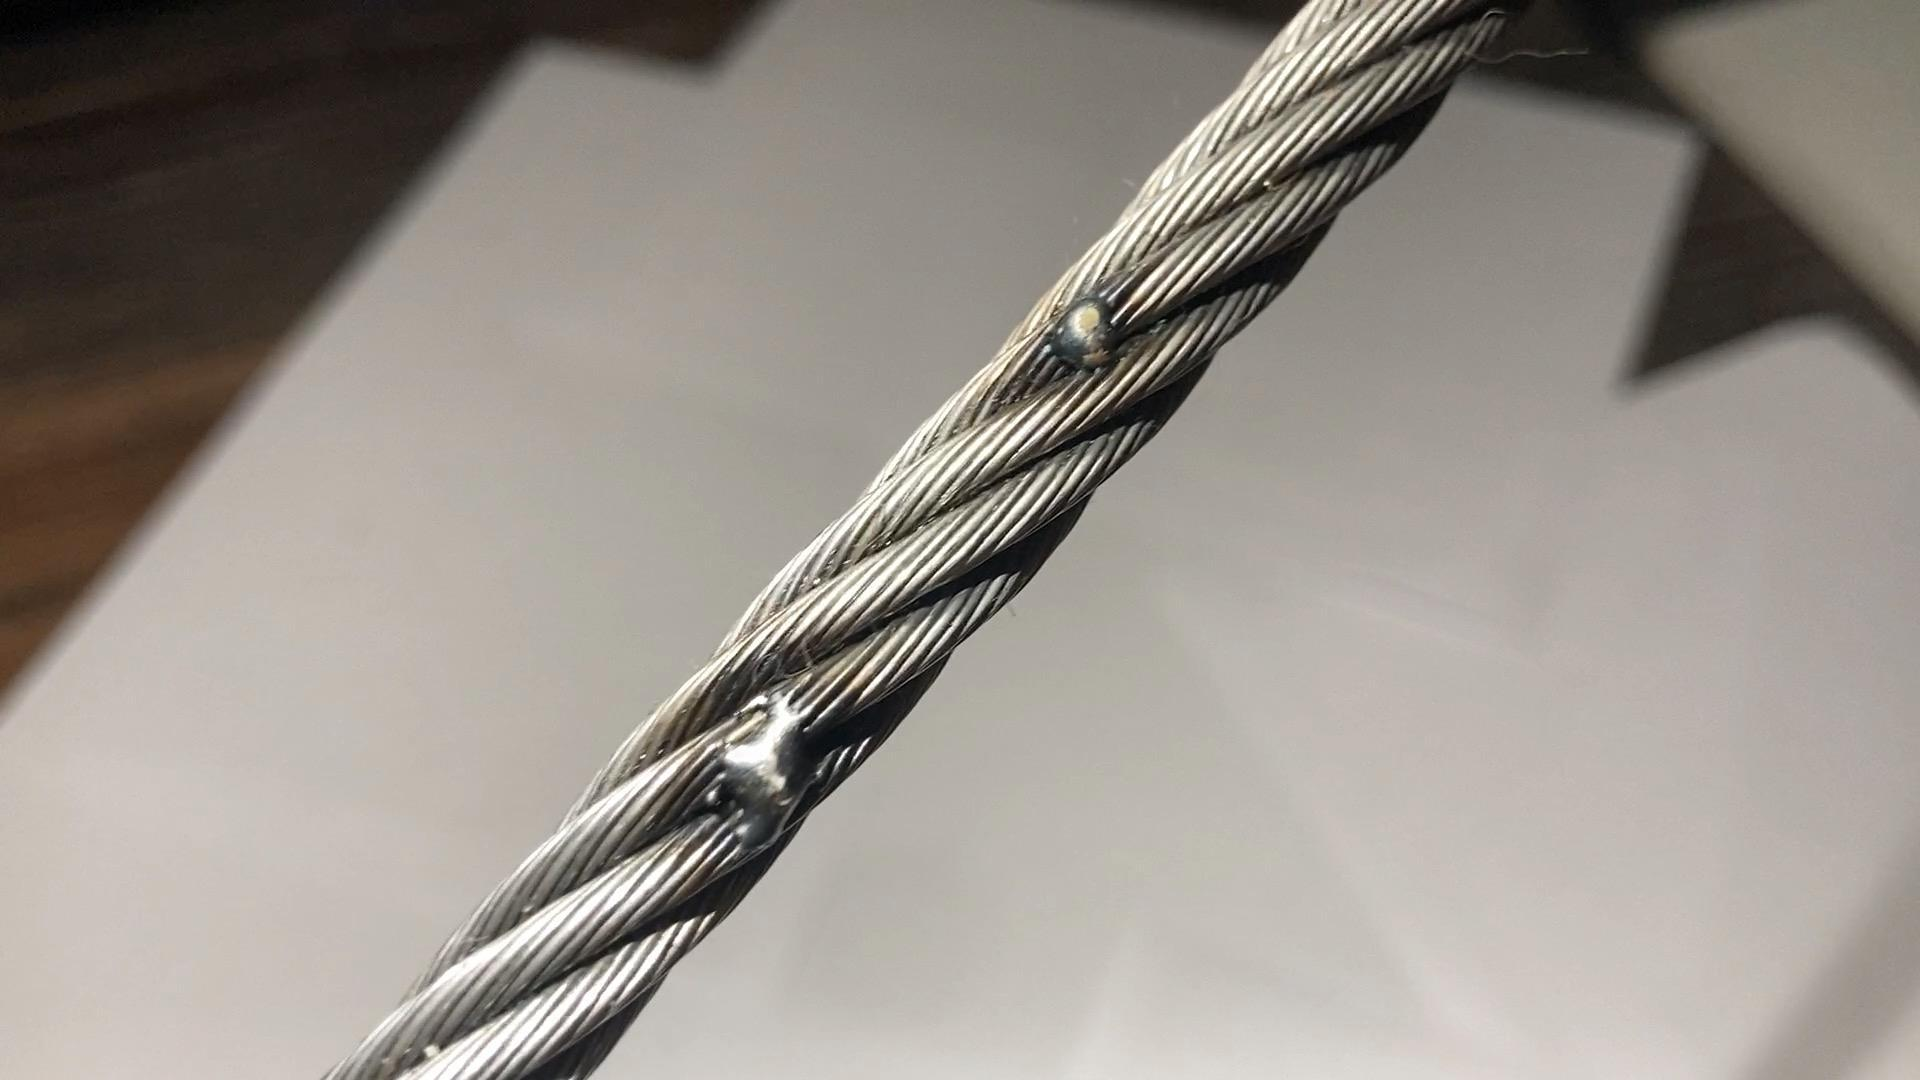thunderbolt: (684, 698, 808, 796), (1051, 287, 1114, 373)
